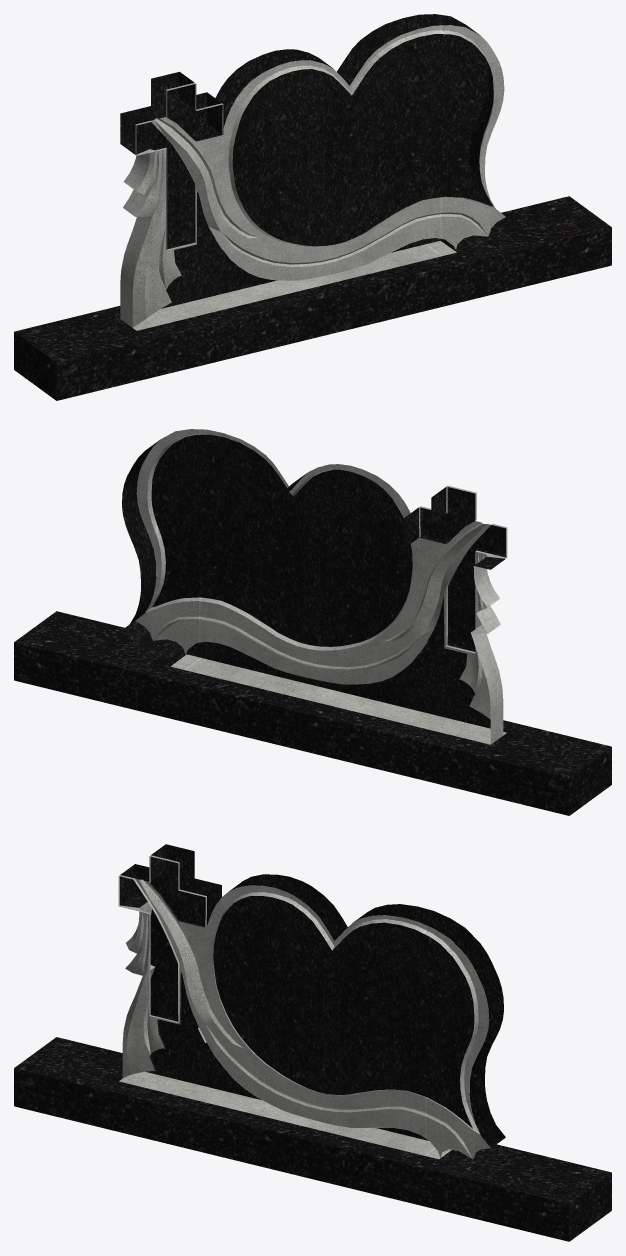
The model's file is Number 138.gltf.
The picture shows the model from 3 angles, top to bottom: view 1: azimuth 30°, elevation 25°; view 2: azimuth 150°, elevation 25°; view 3: azimuth 330°, elevation 25°; orthographic projection.
Visible parts, largest first — view 1: LP, Cube.038; view 2: LP, Cube.038; view 3: LP, Cube.038.
Part boxes in pixels (bbox=[...]): LP: bbox=[120, 14, 505, 330]; Cube.038: bbox=[14, 196, 611, 400]; LP: bbox=[120, 429, 507, 744]; Cube.038: bbox=[14, 611, 611, 815]; LP: bbox=[118, 844, 505, 1159]; Cube.038: bbox=[14, 1037, 611, 1241].
Size of the model in its own units: 1.5 by 0.7 by 0.2.
2 materials, 2 textured.
